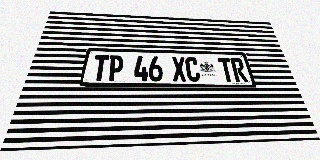4: (134, 56, 148, 81)
6: (149, 56, 163, 81)
C: (185, 57, 201, 82)
P: (107, 55, 124, 81)
R: (230, 58, 248, 82)
T: (91, 55, 109, 81), (217, 58, 235, 82)
X: (171, 57, 187, 82)
